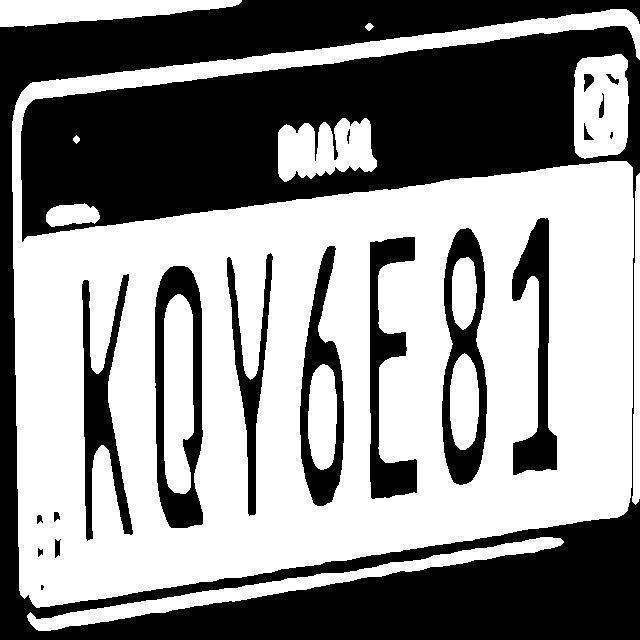1: (502, 204, 570, 510)
6: (290, 217, 356, 536)
8: (429, 202, 494, 515)
e: (360, 207, 428, 521)
k: (72, 244, 137, 556)
q: (138, 234, 212, 552)
y: (222, 217, 282, 540)
